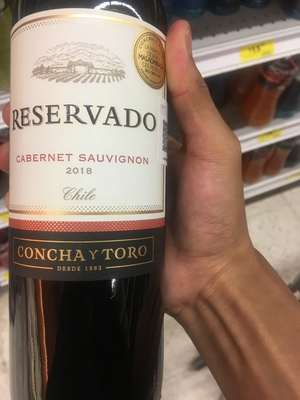reservado cabernet sauvignon: (8, 1, 169, 399)
